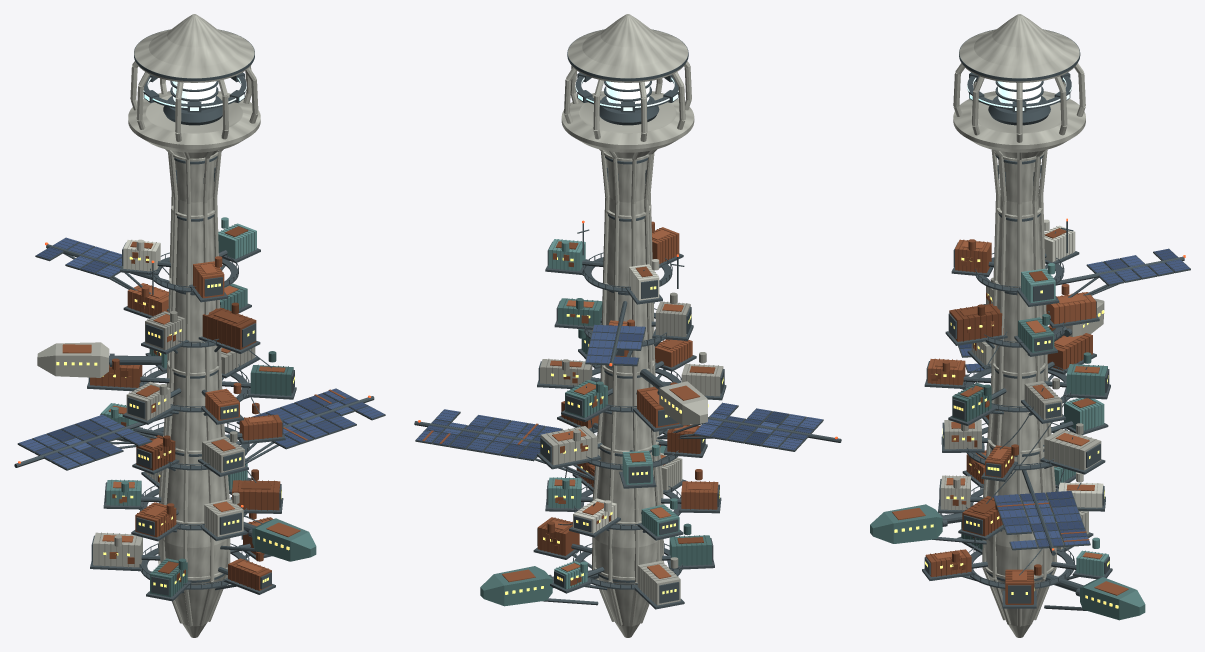
Rendered from lighthouse.glb.
3 views of the same model, side by side, from view 1: azimuth 30°, elevation 25°; view 2: azimuth 150°, elevation 25°; view 3: azimuth 270°, elevation 25° (orthographic).
Parts seen in each view (by area): view 1: LH Ancient tower | Weathered pale alloy, LH Clan settlement | Dark structural steel, LH Clan settlement | Oxidised salvage, LH Lantern | Weathered pale alloy, LH Solar wings | Solar cells, LH Clan settlement | Weathered pale alloy, LH Solar wings | Dark structural steel, LH Clan settlement | Faded clan paint, LH Converted hull homes | Weathered pale alloy, LH Converted hull homes | Faded clan paint, LH Lantern | Dark structural steel, EmitterRing (+4 smaller); view 2: LH Ancient tower | Weathered pale alloy, LH Clan settlement | Dark structural steel, LH Lantern | Weathered pale alloy, LH Clan settlement | Oxidised salvage, LH Solar wings | Solar cells, LH Clan settlement | Weathered pale alloy, LH Clan settlement | Faded clan paint, LH Solar wings | Dark structural steel, LH Converted hull homes | Faded clan paint, LH Lantern | Dark structural steel, LH Converted hull homes | Weathered pale alloy, EmitterRing (+3 smaller); view 3: LH Ancient tower | Weathered pale alloy, LH Clan settlement | Dark structural steel, LH Clan settlement | Oxidised salvage, LH Lantern | Weathered pale alloy, LH Clan settlement | Weathered pale alloy, LH Clan settlement | Faded clan paint, LH Solar wings | Solar cells, LH Solar wings | Dark structural steel, LH Converted hull homes | Faded clan paint, LH Lantern | Dark structural steel, EmitterRing, LH Clan settlement | Warm windows emission (+4 smaller).
Part boxes in pixels (box(x1,y1,x2,y2)): LH Ancient tower | Weathered pale alloy: box(158, 149, 230, 637); LH Clan settlement | Dark structural steel: box(87, 242, 296, 601); LH Clan settlement | Oxidised salvage: box(90, 226, 285, 590); LH Lantern | Weathered pale alloy: box(128, 14, 260, 152); LH Solar wings | Solar cells: box(19, 237, 384, 468); LH Clan settlement | Weathered pale alloy: box(93, 239, 255, 567); LH Solar wings | Dark structural steel: box(14, 238, 385, 470); LH Clan settlement | Faded clan paint: box(101, 217, 293, 597); LH Converted hull homes | Weathered pale alloy: box(37, 342, 109, 377); LH Converted hull homes | Faded clan paint: box(252, 518, 316, 561); LH Lantern | Dark structural steel: box(134, 29, 254, 125); EmitterRing: box(143, 72, 246, 112); LH Ancient tower | Weathered pale alloy: box(592, 149, 664, 637); LH Clan settlement | Dark structural steel: box(533, 223, 726, 609); LH Lantern | Weathered pale alloy: box(561, 14, 694, 152); LH Clan settlement | Oxidised salvage: box(537, 221, 718, 585); LH Solar wings | Solar cells: box(416, 324, 822, 459); LH Clan settlement | Weathered pale alloy: box(540, 259, 723, 605); LH Clan settlement | Faded clan paint: box(548, 239, 711, 589); LH Solar wings | Dark structural steel: box(414, 301, 841, 480); LH Converted hull homes | Faded clan paint: box(480, 439, 666, 606); LH Lantern | Dark structural steel: box(567, 29, 688, 125); LH Converted hull homes | Weathered pale alloy: box(659, 381, 707, 425); EmitterRing: box(575, 72, 678, 112); LH Ancient tower | Weathered pale alloy: box(982, 149, 1056, 637); LH Clan settlement | Dark structural steel: box(922, 221, 1112, 610); LH Clan settlement | Oxidised salvage: box(925, 228, 1102, 604); LH Lantern | Weathered pale alloy: box(953, 14, 1085, 152); LH Clan settlement | Weathered pale alloy: box(940, 219, 1103, 549); LH Clan settlement | Faded clan paint: box(952, 263, 1108, 576); LH Solar wings | Solar cells: box(959, 249, 1189, 548); LH Solar wings | Dark structural steel: box(958, 248, 1190, 555); LH Converted hull homes | Faded clan paint: box(870, 504, 1145, 620); LH Lantern | Dark structural steel: box(959, 29, 1080, 125); EmitterRing: box(967, 72, 1072, 112); LH Clan settlement | Warm windows emission: box(894, 257, 1118, 608).
Size of the model in its own units: 594 by 900 by 421.
